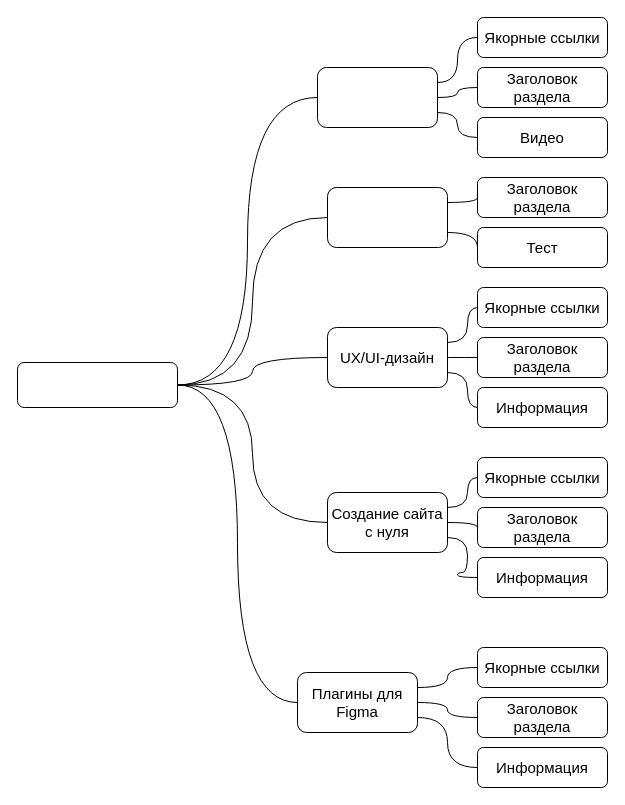
Some shapes in this 625 by 805 pixel diagram are drawn without their labels. Here are the shapes that lost their labels. From the top down, the centre of each, then its label:
At point (377, 97): "Видеоуроки".
At point (387, 217): "Викторина".
At point (97, 385): "Главная страница".
